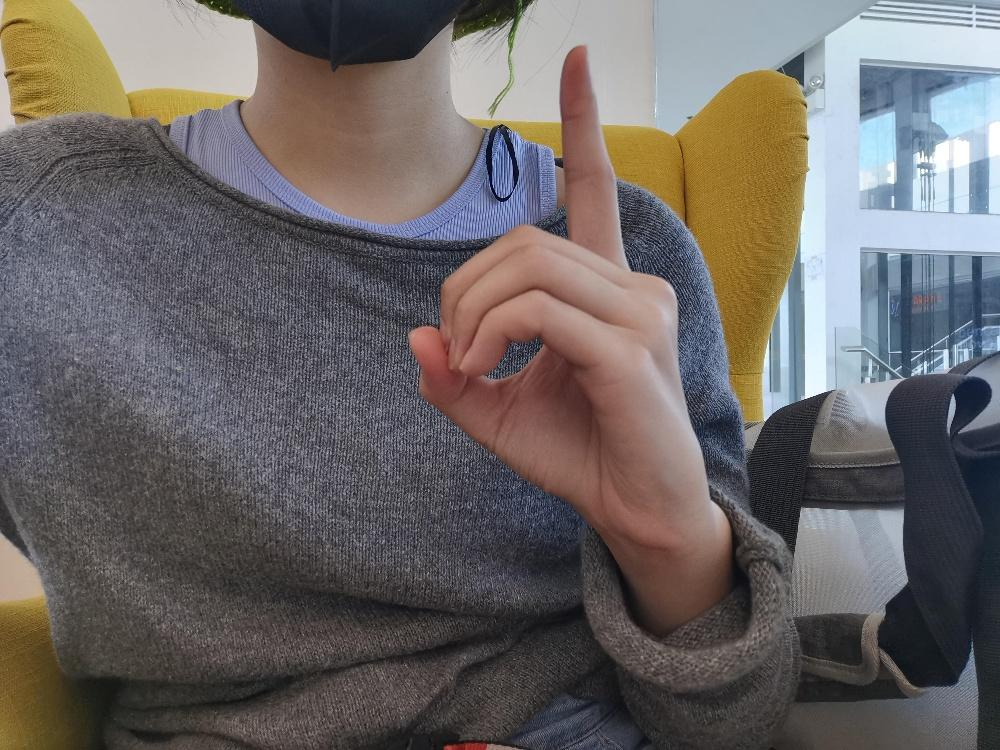d: (404, 40, 709, 537)
